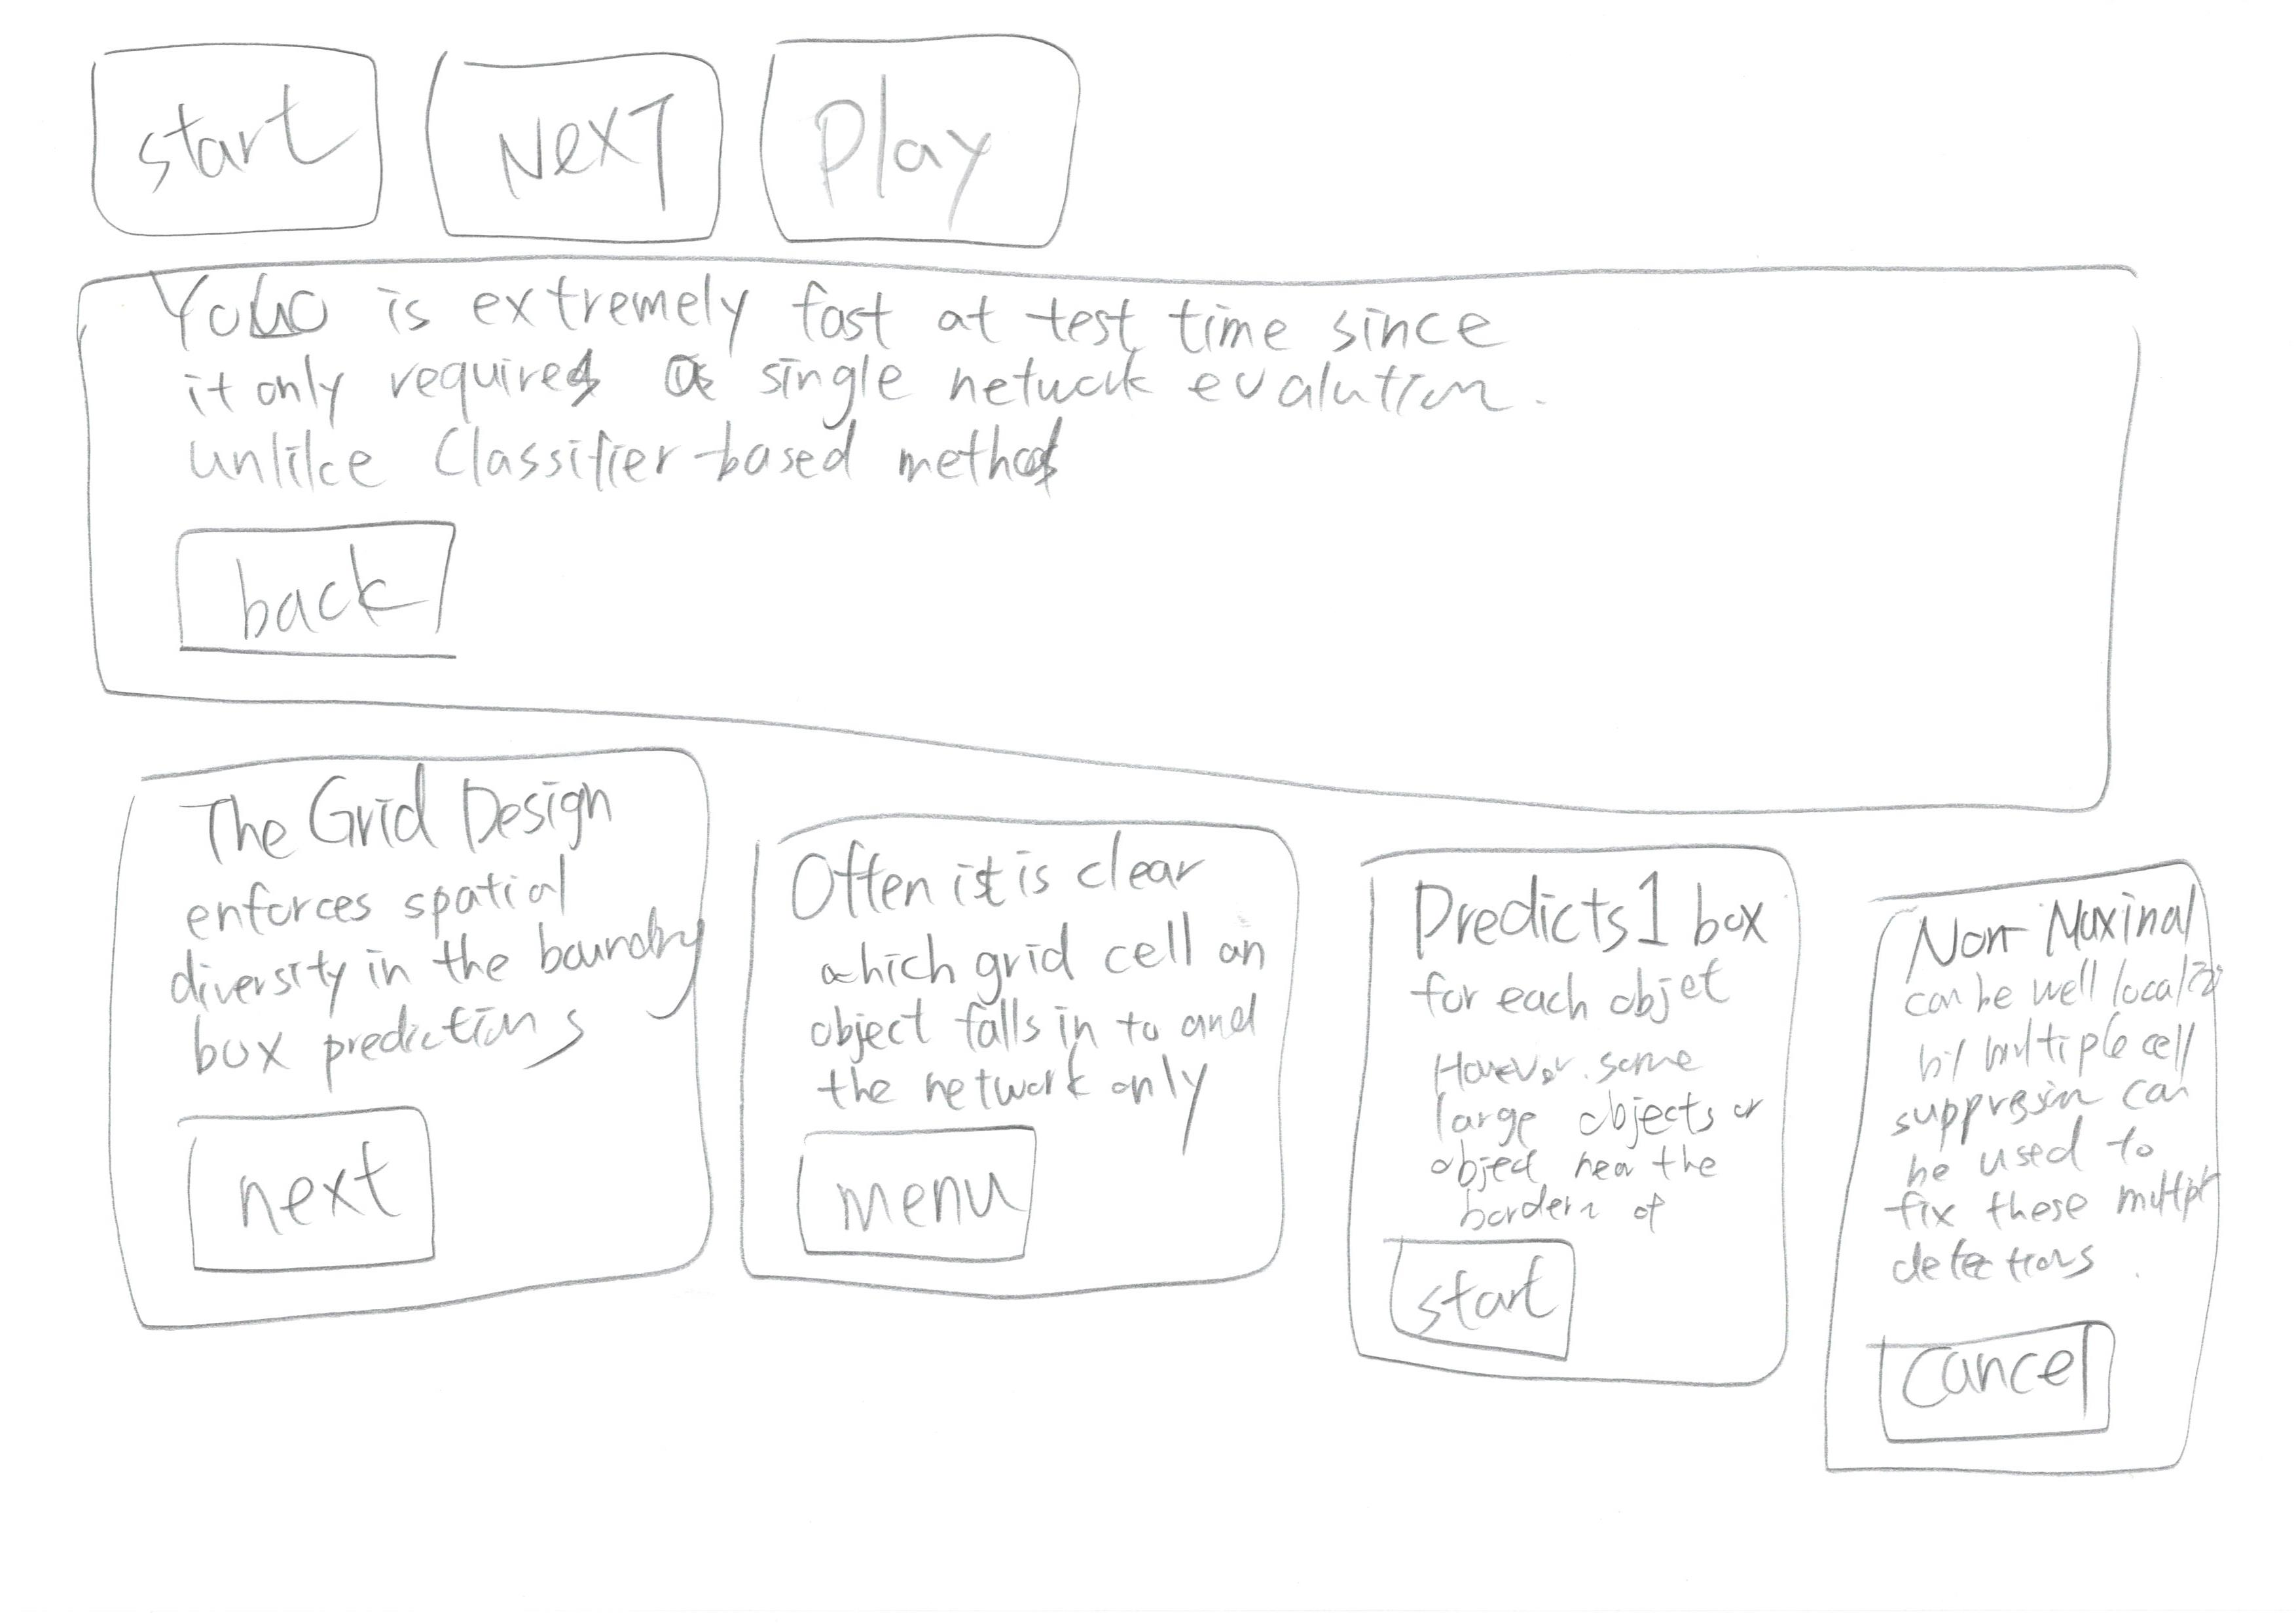back: (146, 501, 503, 687)
cancel: (1855, 1309, 2147, 1468)
menu: (767, 1120, 1074, 1288)
next: (420, 25, 731, 255), (163, 1095, 476, 1290)
play: (752, 25, 1120, 272)
quadruple: (62, 740, 744, 1350), (712, 733, 1327, 1381), (1786, 831, 2296, 1513), (1317, 826, 1821, 1452)
row: (18, 729, 2296, 1538), (18, 244, 2296, 863), (18, 0, 2296, 286)
single: (51, 244, 2247, 837)
small-title: (151, 279, 1501, 383), (768, 828, 1222, 939), (1364, 863, 1818, 974), (199, 763, 652, 872), (1902, 896, 2213, 977)
start: (54, 23, 408, 246), (1350, 1211, 1626, 1380)
text: (174, 371, 1531, 490), (176, 886, 705, 1090), (1892, 988, 2212, 1299), (1420, 968, 1758, 1223), (807, 942, 1250, 1132)
